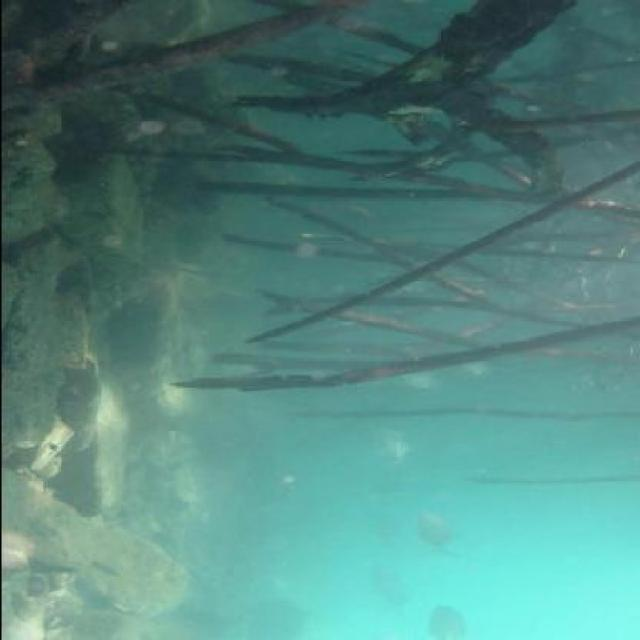Caranx_sexfasciatus_juvenile: (404, 506, 459, 565), (362, 425, 416, 477), (360, 569, 411, 616), (422, 603, 478, 640)
